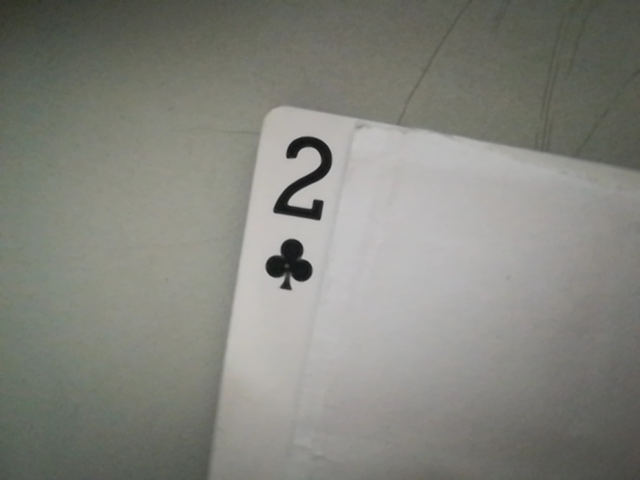mh 2: (256, 124, 348, 297)
